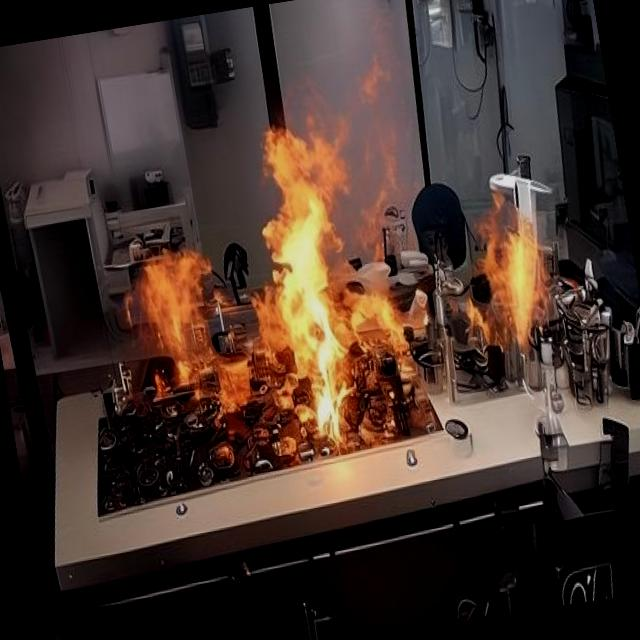fire: (78, 110, 430, 491), (462, 188, 558, 354)
